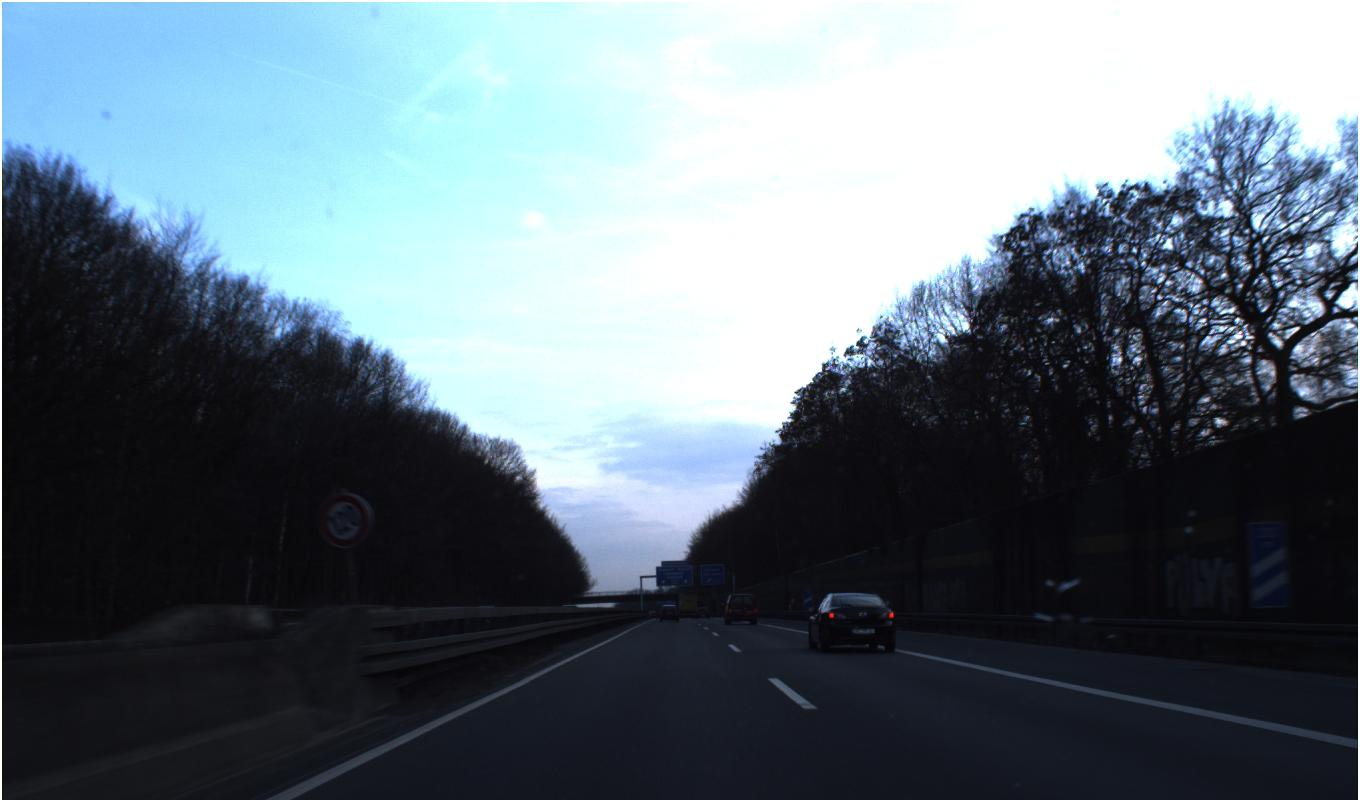prohibitory: (316, 490, 374, 549)
